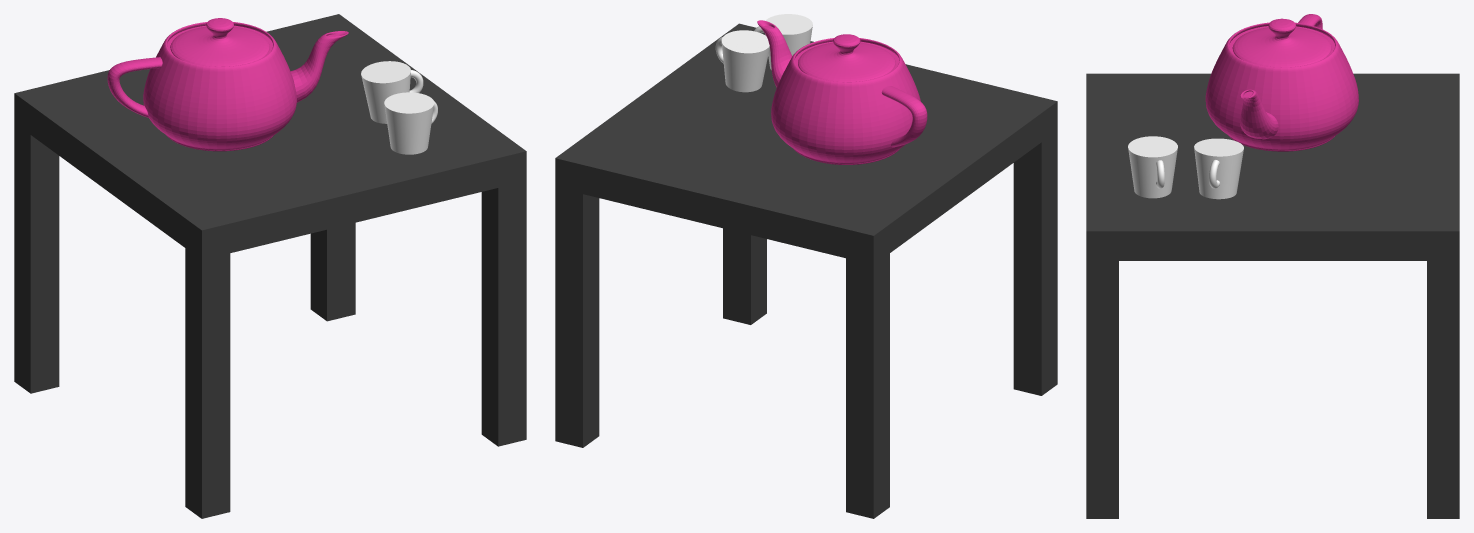
Rendered from teapotTable.gltf.
The picture shows the model from 3 angles, left to right: view 1: azimuth 30°, elevation 25°; view 2: azimuth 150°, elevation 25°; view 3: azimuth 270°, elevation 25°; orthographic projection.
Visible parts, largest first — view 1: tableTop, teapot, Leg2, Leg1, Leg3, cup (×2), Leg4; view 2: tableTop, teapot, Leg4, Leg3, Leg2, Leg1, cup (×2); view 3: tableTop, teapot, Leg1, Leg4, cup (×2).
Part boxes in pixels (box(x1,y1,x2,y2)): tableTop: box(14, 14, 526, 259); teapot: box(107, 18, 348, 151); Leg2: box(185, 247, 230, 518); Leg1: box(481, 176, 526, 446); Leg3: box(14, 122, 59, 393); cup (×2): box(361, 61, 434, 154); Leg4: box(310, 222, 355, 321); tableTop: box(555, 23, 1057, 264); teapot: box(757, 20, 927, 164); Leg4: box(555, 183, 599, 447); Leg3: box(846, 249, 889, 518); Leg2: box(1013, 126, 1057, 395); Leg1: box(723, 228, 766, 324); cup (×2): box(721, 14, 812, 92); tableTop: box(1086, 73, 1459, 260); teapot: box(1205, 14, 1358, 151); Leg1: box(1086, 261, 1118, 518); Leg4: box(1427, 261, 1459, 518); cup (×2): box(1128, 136, 1243, 199).
Bounding box in the file's own units: 20 × 23.34 × 20.
